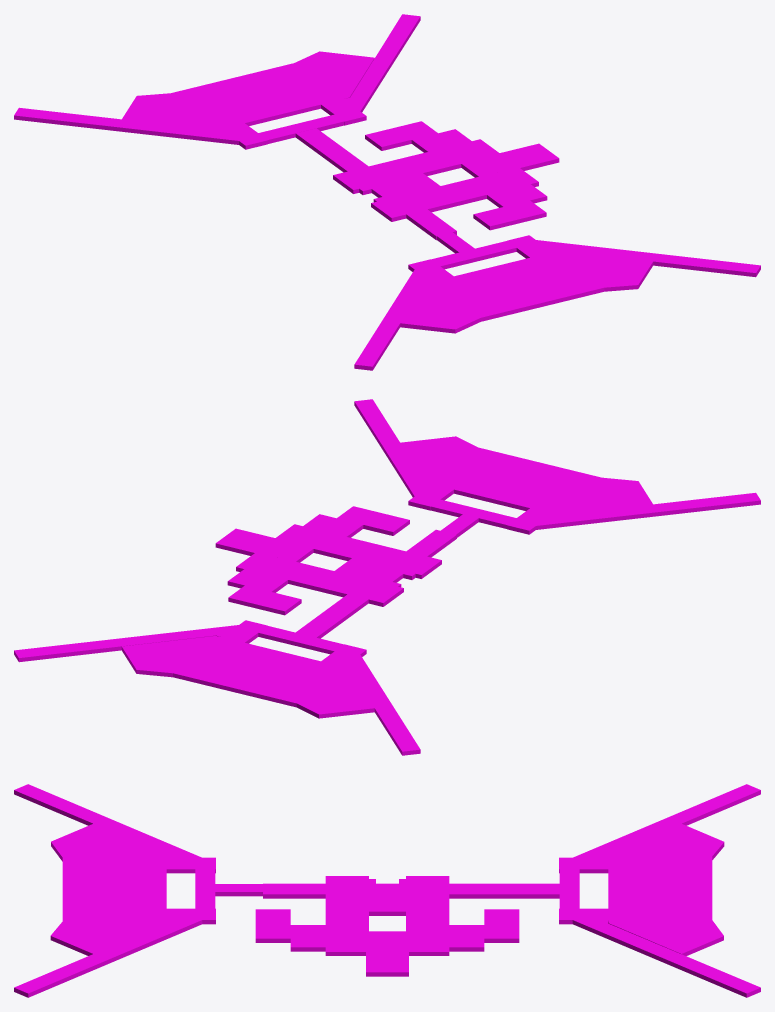
Rendered from GroundCollisionP1.dae.
3 renders of one model, top to bottom at view 1: azimuth 30°, elevation 25°; view 2: azimuth 150°, elevation 25°; view 3: azimuth 270°, elevation 25°, orthographic. The views are drawn at different scales.
Parts seen in each view (by area): view 1: GroundCollisionP1-Pivot; view 2: GroundCollisionP1-Pivot; view 3: GroundCollisionP1-Pivot.
Boxes of the visible parts, x1,y1,x2,y2 form: GroundCollisionP1-Pivot: (14,14,760,370); GroundCollisionP1-Pivot: (14,399,760,755); GroundCollisionP1-Pivot: (14,784,760,997).
Size of the model in its own units: 5433 by 8188 by 53.
Materials: 1 (1 with a texture image).
